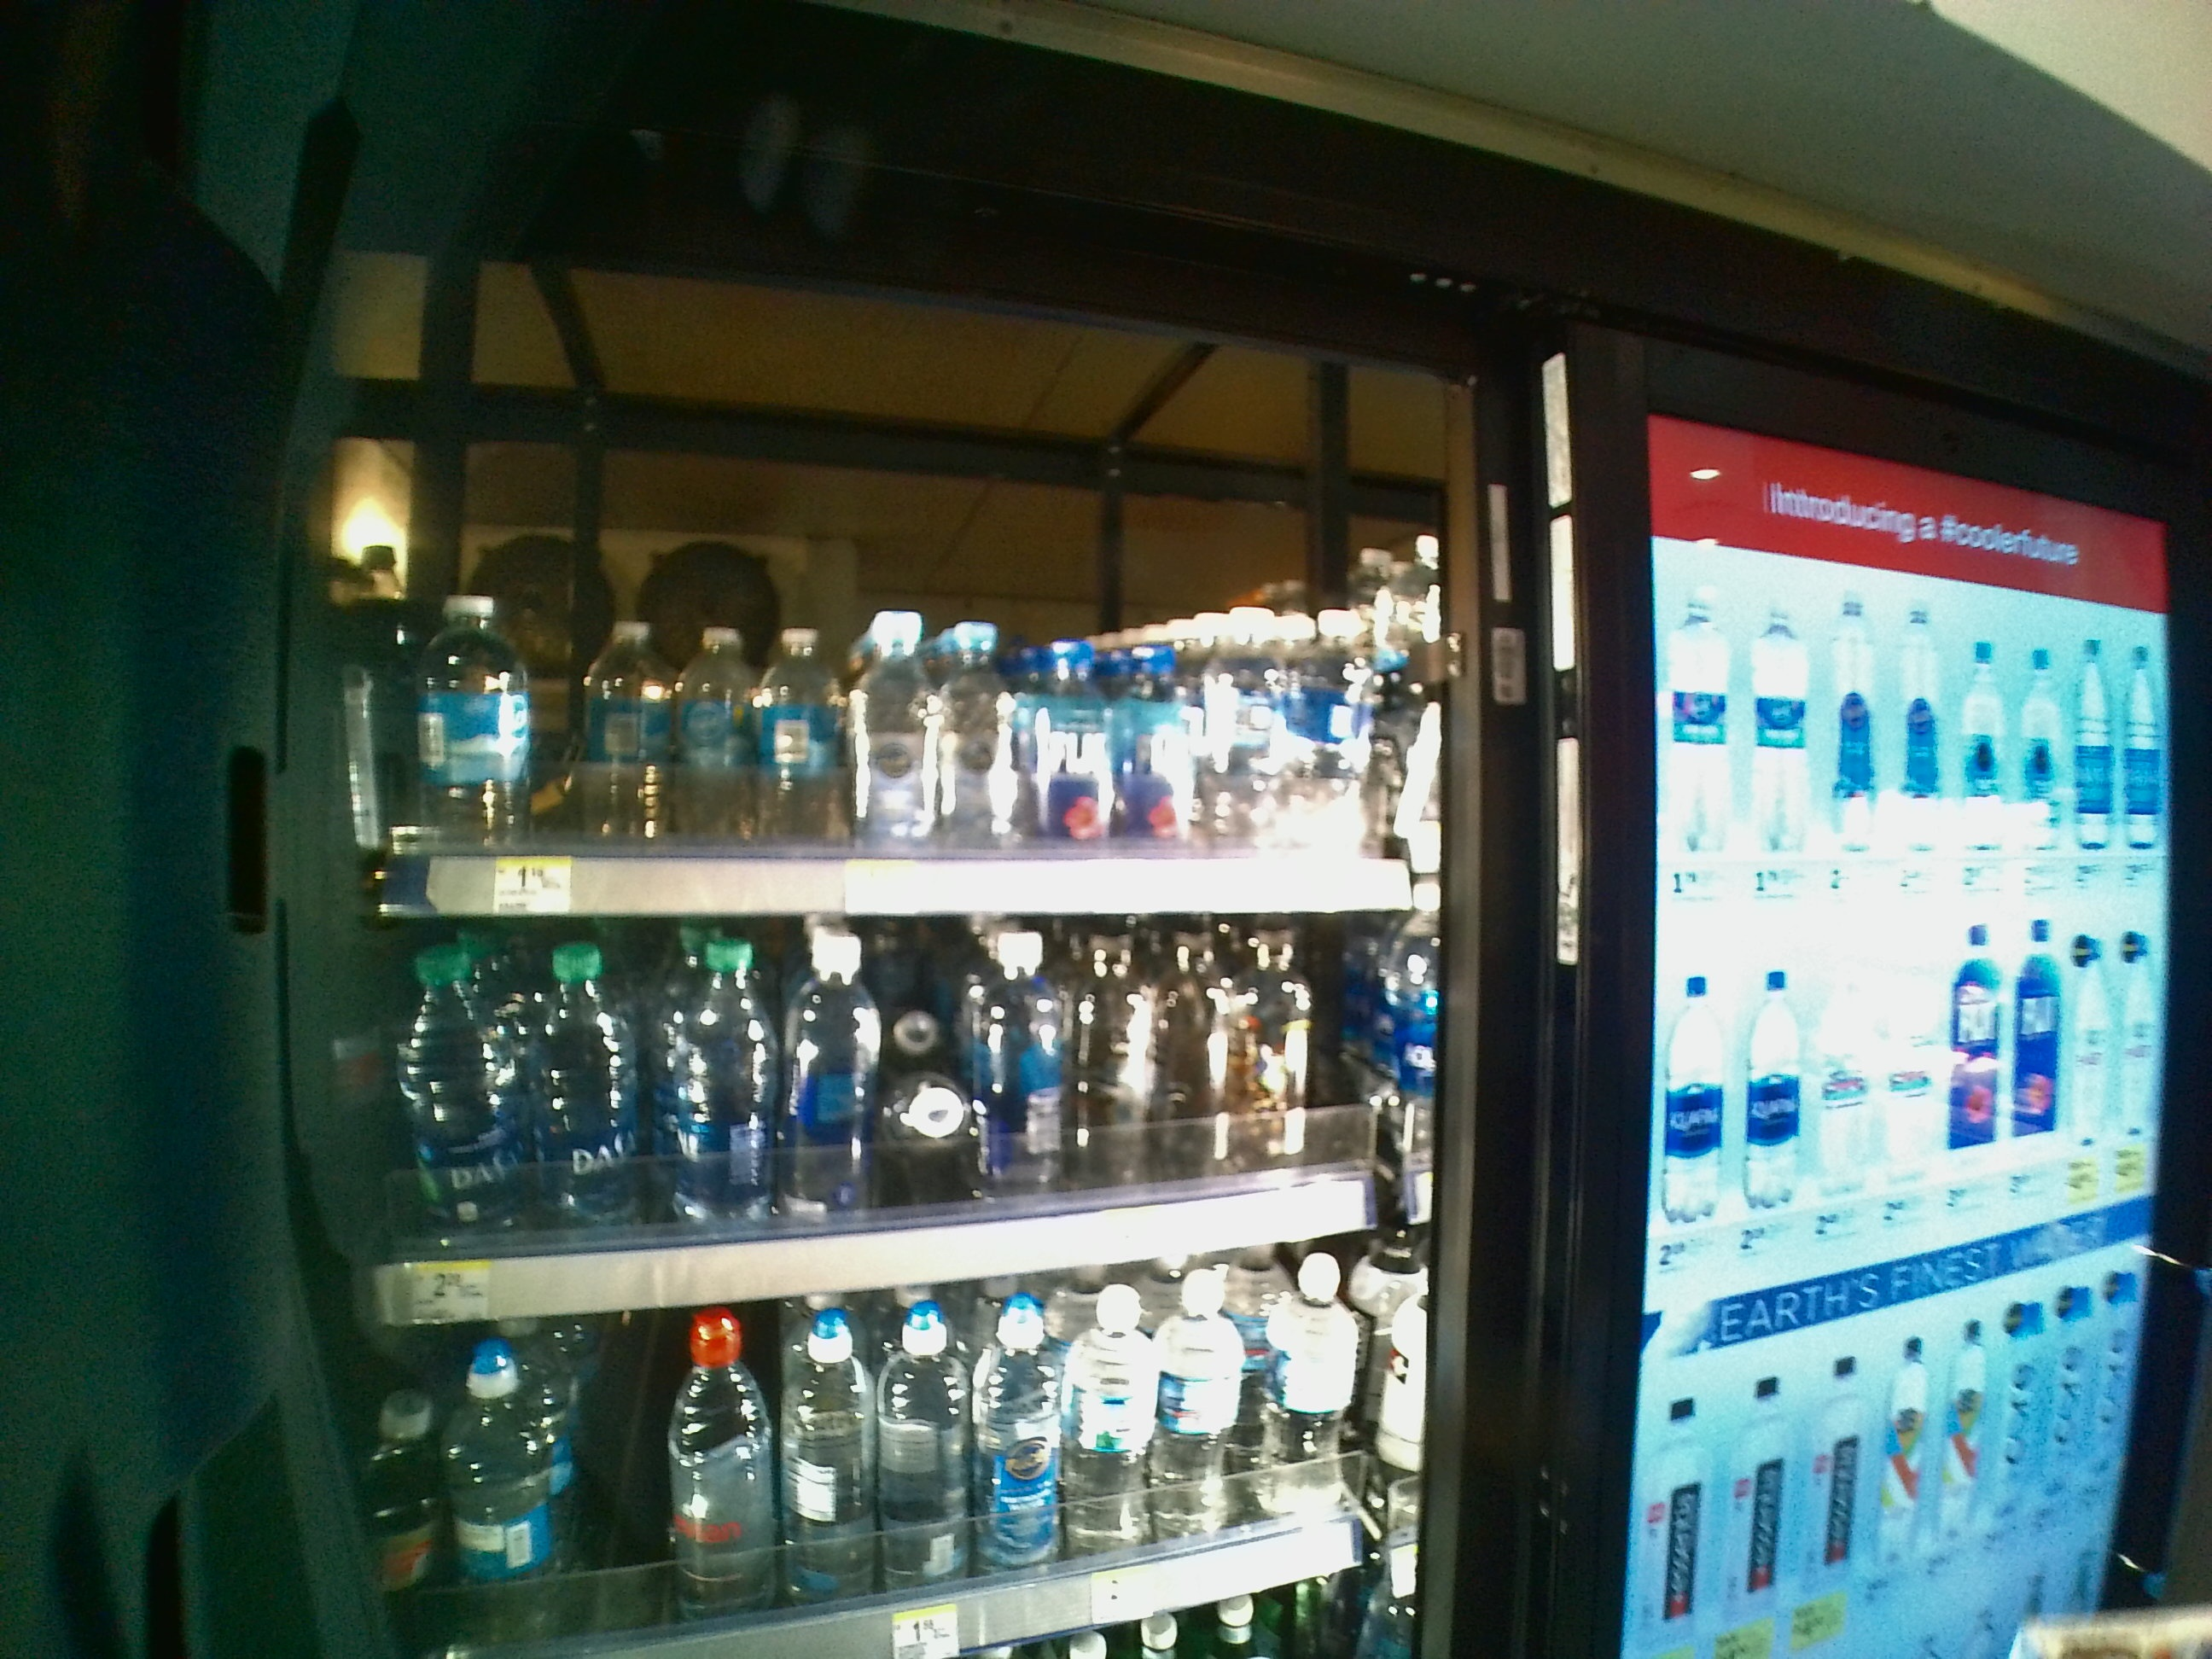shelf: (343, 239, 1453, 932), (340, 932, 1460, 1333)
